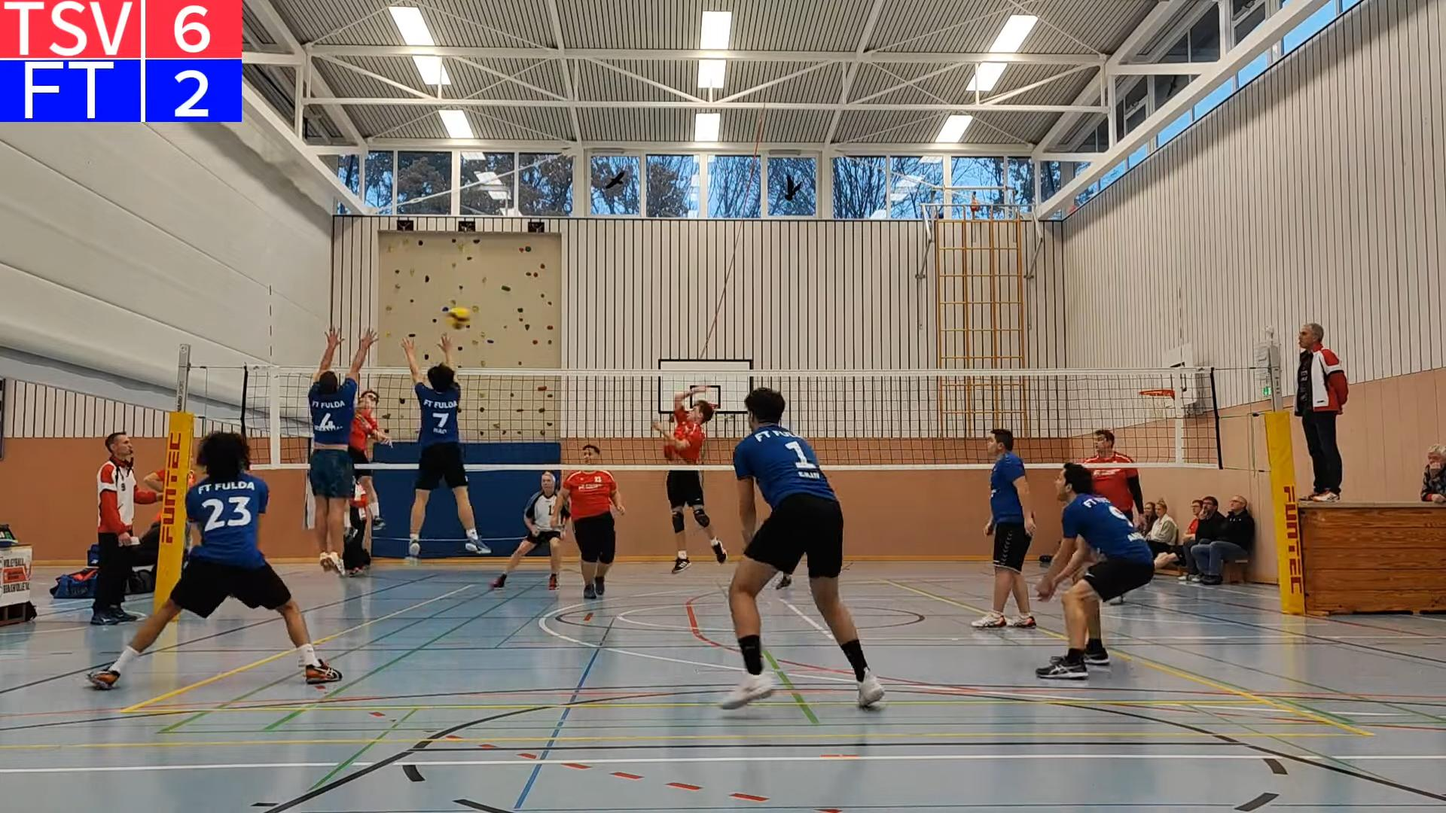Attack: (343, 391, 399, 555)
Block: (405, 331, 492, 565), (302, 323, 375, 579)
Player: (88, 433, 341, 689), (720, 388, 884, 708), (1036, 463, 1155, 678), (972, 428, 1036, 628), (552, 443, 625, 598), (491, 472, 569, 590), (1081, 429, 1145, 531), (667, 468, 727, 573), (1081, 429, 1143, 528)
ball: (445, 306, 476, 328)
